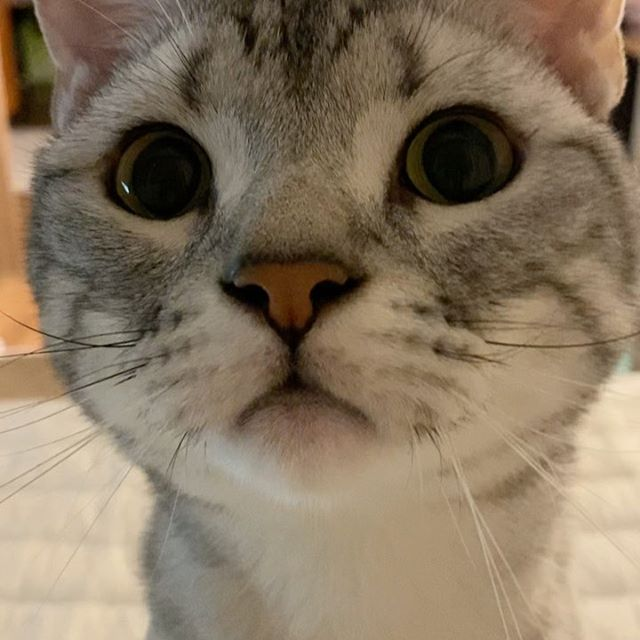cat: (22, 1, 640, 513)
